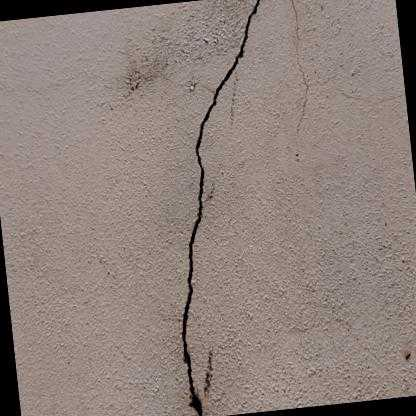crack: (182, 0, 260, 416)
